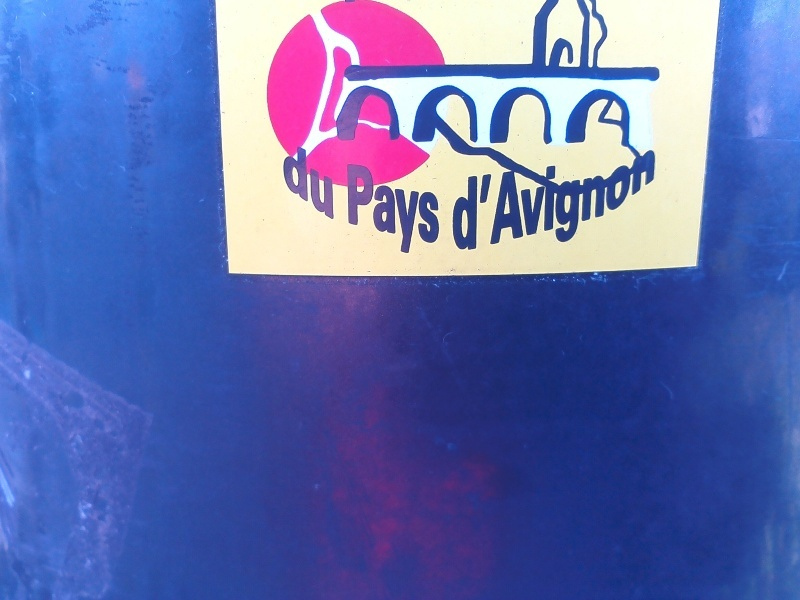text: (449, 147, 464, 276), (465, 147, 480, 276), (481, 147, 496, 276), (497, 147, 512, 276), (513, 147, 528, 276), (529, 147, 544, 276), (545, 147, 560, 276), (561, 147, 576, 276), (577, 147, 592, 276), (593, 147, 608, 276), (609, 147, 624, 276), (625, 147, 640, 276), (641, 147, 656, 276), (353, 161, 368, 261), (369, 161, 384, 261), (385, 161, 400, 261), (401, 161, 416, 261), (417, 161, 432, 261), (289, 143, 304, 222), (305, 143, 320, 222), (657, 147, 666, 276), (321, 143, 334, 222), (433, 161, 440, 261), (346, 161, 352, 261), (285, 143, 288, 222)
